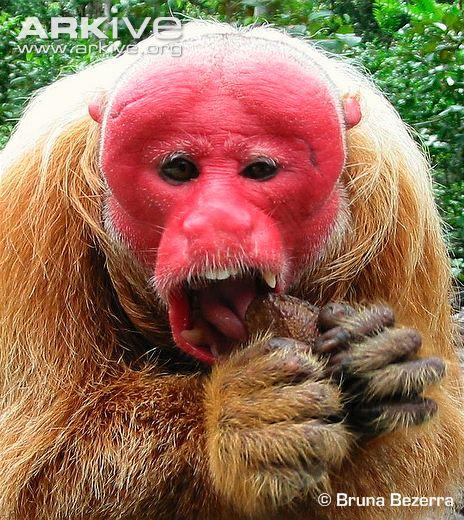monkey: (0, 20, 464, 520)
